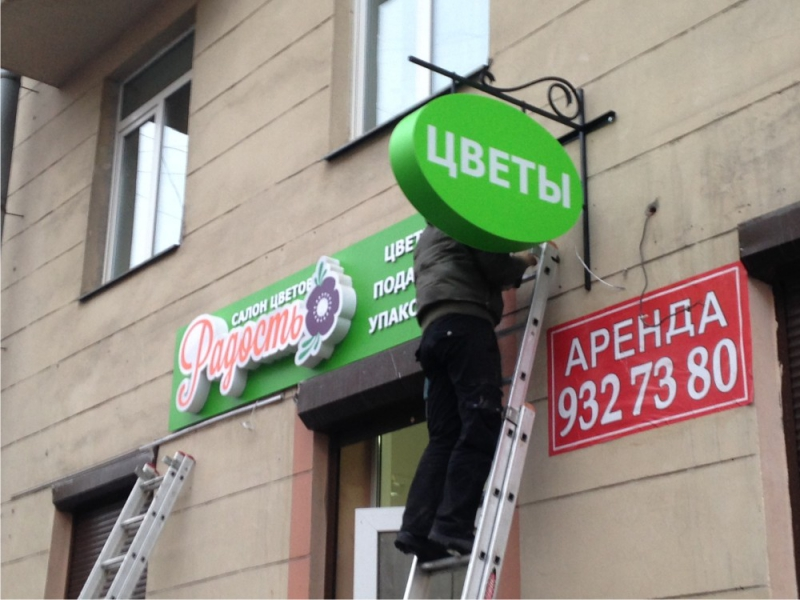cantilever: (382, 57, 608, 293)
signboard: (164, 234, 417, 430), (544, 262, 753, 453)
window: (103, 20, 190, 279), (348, 1, 489, 137)
